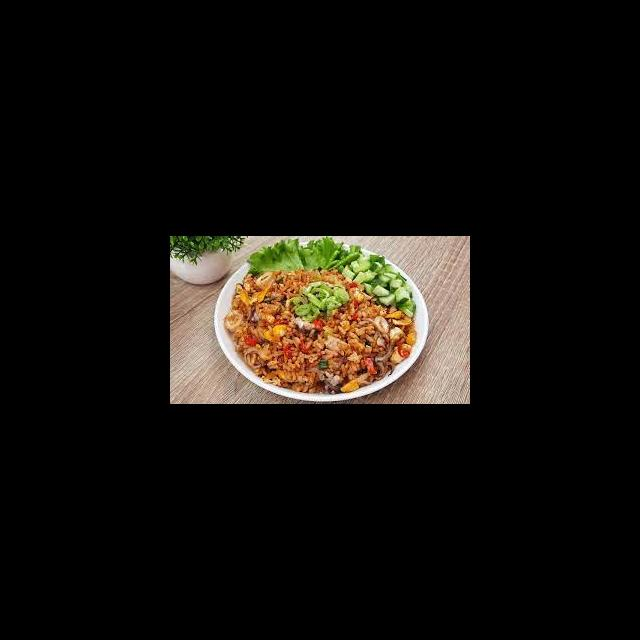food_waste: (254, 269, 374, 368)
